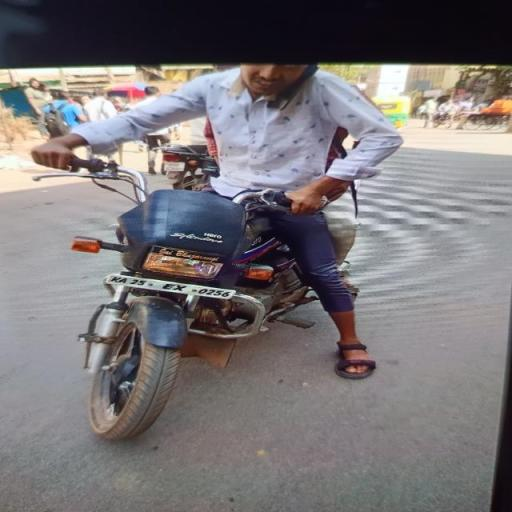bike: (26, 62, 408, 444)
numberplate: (107, 268, 241, 317)
using mobile: (280, 57, 327, 115)
withouthelmet: (244, 62, 303, 97)
